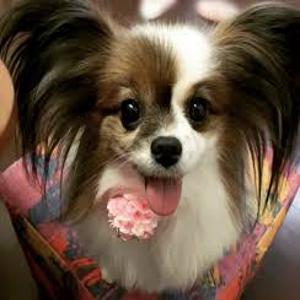yell: (0, 0, 300, 292)
